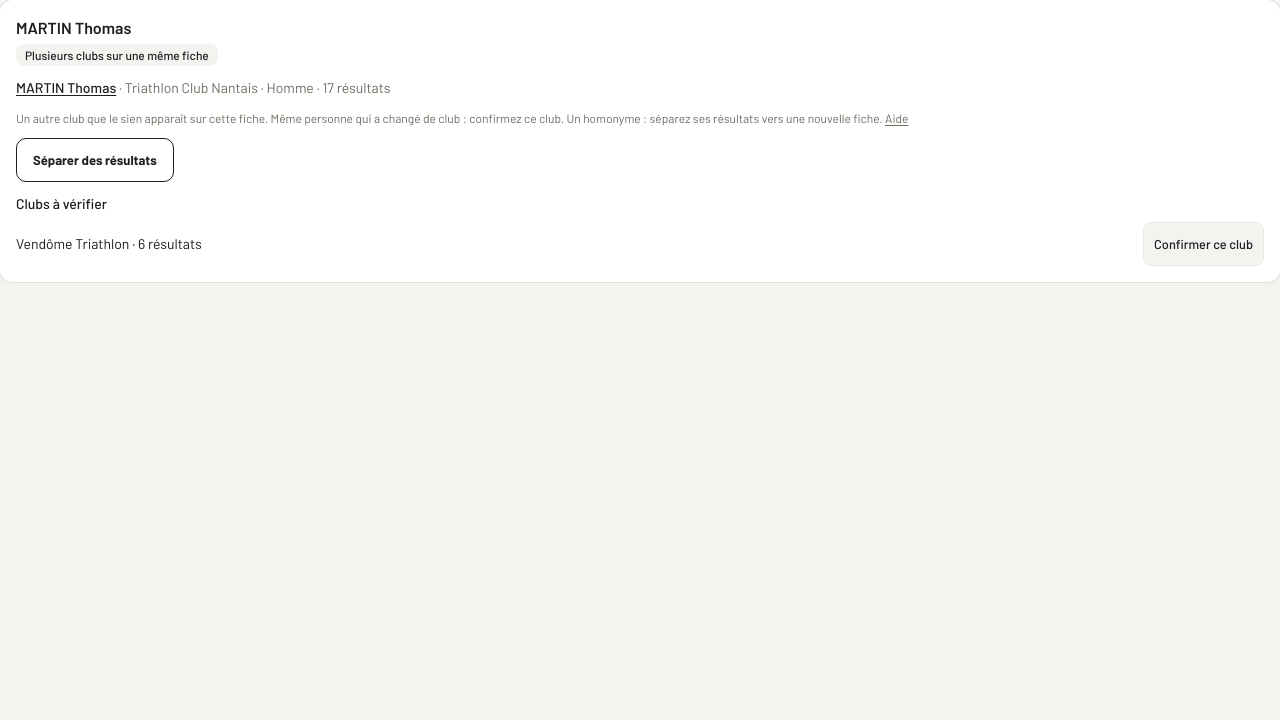
it: AthleteIdentityReviewTable : gestes et aide par motif (#1241) › multi_club : séparer des résultats est offert à côté de la confirmation, la fiche n'est lue qu'à l'ouverture
Expected: the button with aria-label "Confirmer Vendôme Triathlon" is shown, [1143, 222, 1264, 266]
Click the button with aria-label "Séparer des résultats de MARTIN Thomas".
click(95, 160)  # box [16, 138, 174, 182]
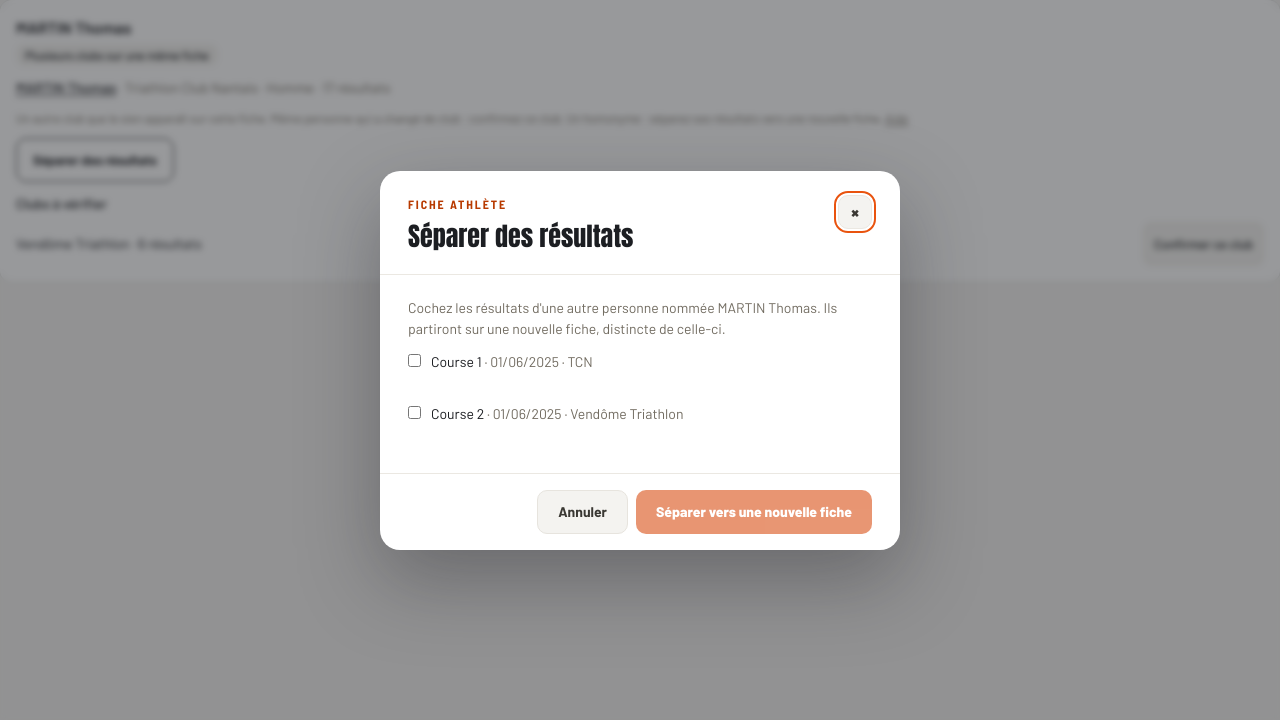
Expected: the checkbox labelled "Course 2 · 01/06/2025 · Vendôme Triathlon" is shown, [408, 406, 421, 418]
